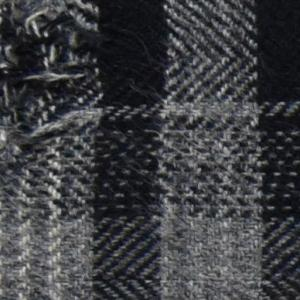Damage: (1, 1, 111, 182)
